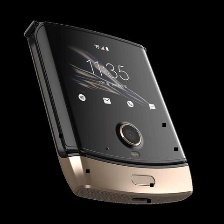phone: (20, 16, 195, 207)
